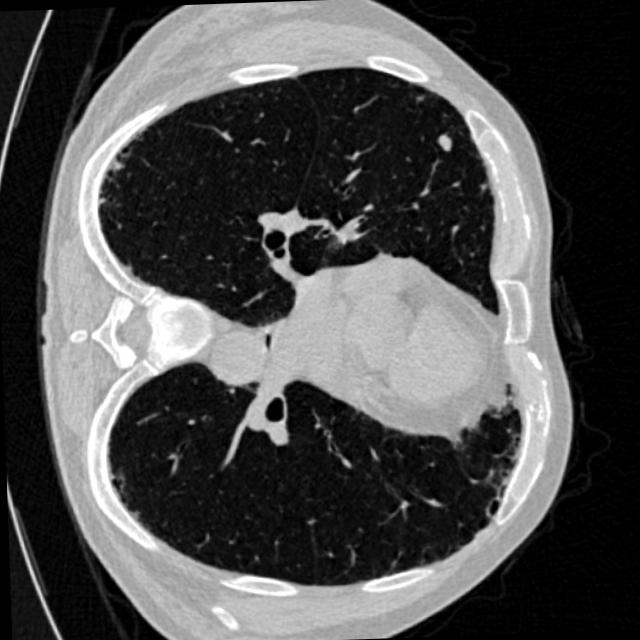nodule: (428, 124, 462, 157)
